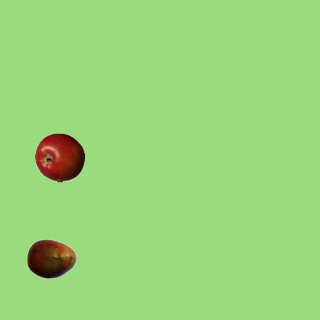Apple Braeburn: (34, 132, 84, 182)
Mango Red: (26, 233, 76, 283)
